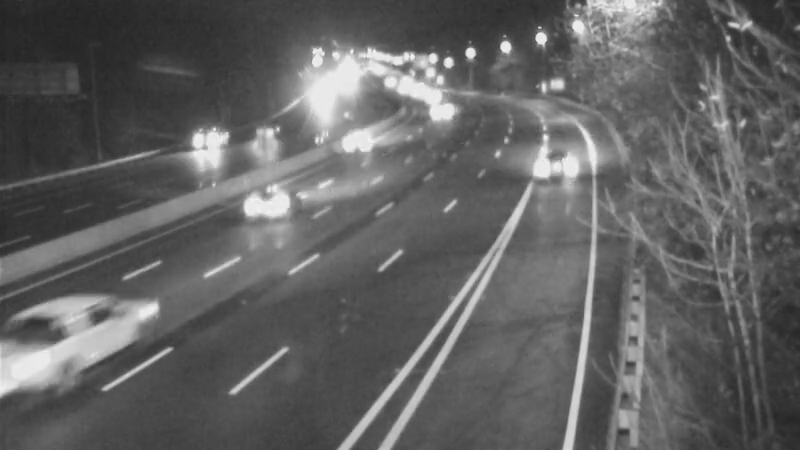vehicle: (27, 284, 137, 394), (512, 123, 592, 203), (220, 160, 300, 240), (363, 58, 413, 108), (393, 66, 443, 116), (407, 69, 457, 119), (414, 87, 464, 137), (336, 117, 386, 167), (194, 112, 244, 162), (242, 112, 292, 162)
